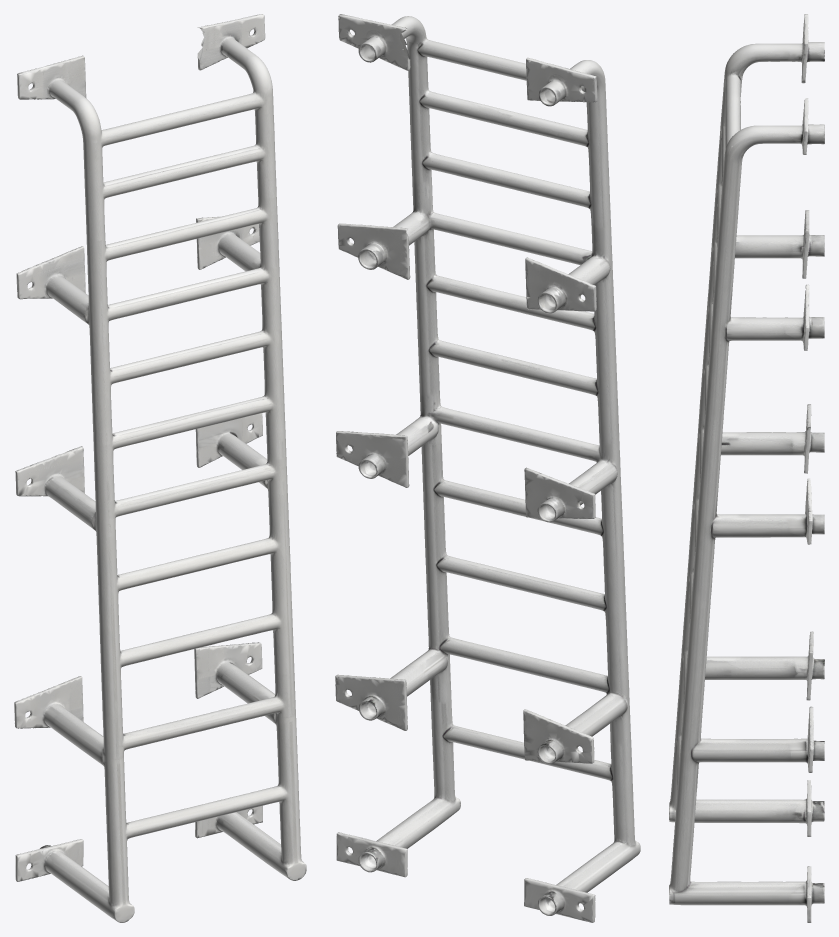
The model's file is Meshy_AI_Industrial_Ladder_0526112236_texture.fbx.
3 views of the same model, side by side, from view 1: azimuth 30°, elevation 25°; view 2: azimuth 150°, elevation 25°; view 3: azimuth 270°, elevation 25° (orthographic). The views are drawn at different scales.
Visible parts, largest first — view 1: Mesh_0; view 2: Mesh_0; view 3: Mesh_0.
Boxes of the visible parts, x1,y1,x2,y2 form: Mesh_0: [14, 14, 306, 922]; Mesh_0: [335, 14, 640, 922]; Mesh_0: [669, 14, 824, 922].
Bounding box in the file's own units: 60.35 × 190 × 33.8.
Materials: 1 (1 with a texture image).
